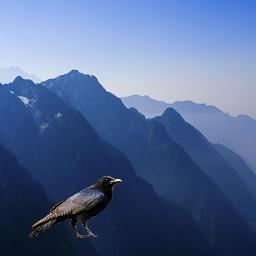Crow: (29, 175, 122, 238)
